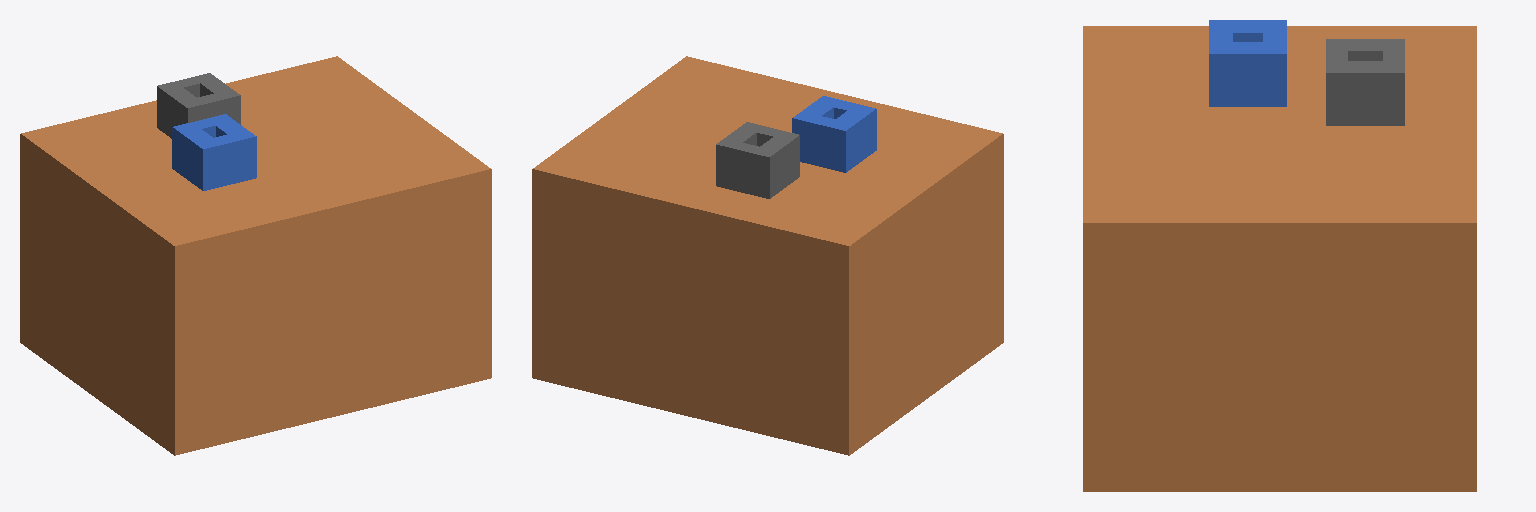
URDF robot description (peg_in_hole_fixtured_scene_0030_peg0017_tol03):
<?xml version="1.0"?>
<robot name="peg_in_hole_fixtured_scene_0030_peg0017_tol03">
  <material name="wood"><color rgba="0.82 0.56 0.35 1.0"/></material>
  <material name="start_fix"><color rgba="0.30 0.50 0.85 1.0"/></material>
  <material name="goal_fix"><color rgba="0.4706 0.4706 0.4706 1.0"/></material>
  <link name="box">
    <visual>
      <origin xyz="0.000000 0.000000 0.000000" rpy="0 0 0"/>
      <geometry><box size="0.475000 0.400000 0.300000"/></geometry>
      <material name="wood"/>
    </visual>
    <collision>
      <origin xyz="0.000000 0.000000 0.000000" rpy="0 0 0"/>
      <geometry><box size="0.475000 0.400000 0.300000"/></geometry>
    </collision>
    <visual>
      <origin xyz="-0.080988 -0.032484 0.155000" rpy="0 0 0"/>
      <geometry><box size="0.080000 0.080000 0.010000"/></geometry>
      <material name="start_fix"/>
    </visual>
    <collision>
      <origin xyz="-0.080988 -0.032484 0.155000" rpy="0 0 0"/>
      <geometry><box size="0.080000 0.080000 0.010000"/></geometry>
    </collision>
    <visual>
      <origin xyz="-0.055738 -0.032484 0.185000" rpy="0 0 0"/>
      <geometry><box size="0.029500 0.080000 0.050000"/></geometry>
      <material name="start_fix"/>
    </visual>
    <collision>
      <origin xyz="-0.055738 -0.032484 0.185000" rpy="0 0 0"/>
      <geometry><box size="0.029500 0.080000 0.050000"/></geometry>
    </collision>
    <visual>
      <origin xyz="-0.106238 -0.032484 0.185000" rpy="0 0 0"/>
      <geometry><box size="0.029500 0.080000 0.050000"/></geometry>
      <material name="start_fix"/>
    </visual>
    <collision>
      <origin xyz="-0.106238 -0.032484 0.185000" rpy="0 0 0"/>
      <geometry><box size="0.029500 0.080000 0.050000"/></geometry>
    </collision>
    <visual>
      <origin xyz="-0.080988 -0.004734 0.185000" rpy="0 0 0"/>
      <geometry><box size="0.021000 0.024500 0.050000"/></geometry>
      <material name="start_fix"/>
    </visual>
    <collision>
      <origin xyz="-0.080988 -0.004734 0.185000" rpy="0 0 0"/>
      <geometry><box size="0.021000 0.024500 0.050000"/></geometry>
    </collision>
    <visual>
      <origin xyz="-0.080988 -0.060234 0.185000" rpy="0 0 0"/>
      <geometry><box size="0.021000 0.024500 0.050000"/></geometry>
      <material name="start_fix"/>
    </visual>
    <collision>
      <origin xyz="-0.080988 -0.060234 0.185000" rpy="0 0 0"/>
      <geometry><box size="0.021000 0.024500 0.050000"/></geometry>
    </collision>
    <visual>
      <origin xyz="-0.035547 0.086954 0.155000" rpy="0 0 0"/>
      <geometry><box size="0.080000 0.080000 0.010000"/></geometry>
      <material name="goal_fix"/>
    </visual>
    <collision>
      <origin xyz="-0.035547 0.086954 0.155000" rpy="0 0 0"/>
      <geometry><box size="0.080000 0.080000 0.010000"/></geometry>
    </collision>
    <visual>
      <origin xyz="-0.009108 0.086954 0.185000" rpy="0 0 0"/>
      <geometry><box size="0.027123 0.080000 0.050000"/></geometry>
      <material name="goal_fix"/>
    </visual>
    <collision>
      <origin xyz="-0.009108 0.086954 0.185000" rpy="0 0 0"/>
      <geometry><box size="0.027123 0.080000 0.050000"/></geometry>
    </collision>
    <visual>
      <origin xyz="-0.061985 0.086954 0.185000" rpy="0 0 0"/>
      <geometry><box size="0.027123 0.080000 0.050000"/></geometry>
      <material name="goal_fix"/>
    </visual>
    <collision>
      <origin xyz="-0.061985 0.086954 0.185000" rpy="0 0 0"/>
      <geometry><box size="0.027123 0.080000 0.050000"/></geometry>
    </collision>
    <visual>
      <origin xyz="-0.035547 0.115893 0.185000" rpy="0 0 0"/>
      <geometry><box size="0.025755 0.022123 0.050000"/></geometry>
      <material name="goal_fix"/>
    </visual>
    <collision>
      <origin xyz="-0.035547 0.115893 0.185000" rpy="0 0 0"/>
      <geometry><box size="0.025755 0.022123 0.050000"/></geometry>
    </collision>
    <visual>
      <origin xyz="-0.035547 0.058016 0.185000" rpy="0 0 0"/>
      <geometry><box size="0.025755 0.022123 0.050000"/></geometry>
      <material name="goal_fix"/>
    </visual>
    <collision>
      <origin xyz="-0.035547 0.058016 0.185000" rpy="0 0 0"/>
      <geometry><box size="0.025755 0.022123 0.050000"/></geometry>
    </collision>
    <inertial>
      <mass value="500"/>
      <friction value="1.0"/>
      <inertia ixx="1000.0" ixy="0.0" ixz="0.0" iyy="1000.0" iyz="0.0" izz="1000.0"/>
    </inertial>
  </link>
</robot>

--- Render facts (derived) ---
The picture shows the robot from 3 angles, left to right: view 1: azimuth 30°, elevation 25°; view 2: azimuth 150°, elevation 25°; view 3: azimuth 270°, elevation 25°; orthographic projection.
Robot: peg_in_hole_fixtured_scene_0030_peg0017_tol03 — 1 links, 0 joints (none); root link box; default pose: every joint at zero.
Links seen in each view (by area): view 1: box; view 2: box; view 3: box.
Link boxes in pixels (box(x1,y1,x2,y2)): box: box(20, 56, 491, 455); box: box(532, 56, 1003, 455); box: box(1083, 20, 1476, 491).
Bounding box of the posed robot: 0.475 × 0.4 × 0.36 m (x, y, z).
Geometry: primitives only (box / cylinder / sphere), no mesh files.
